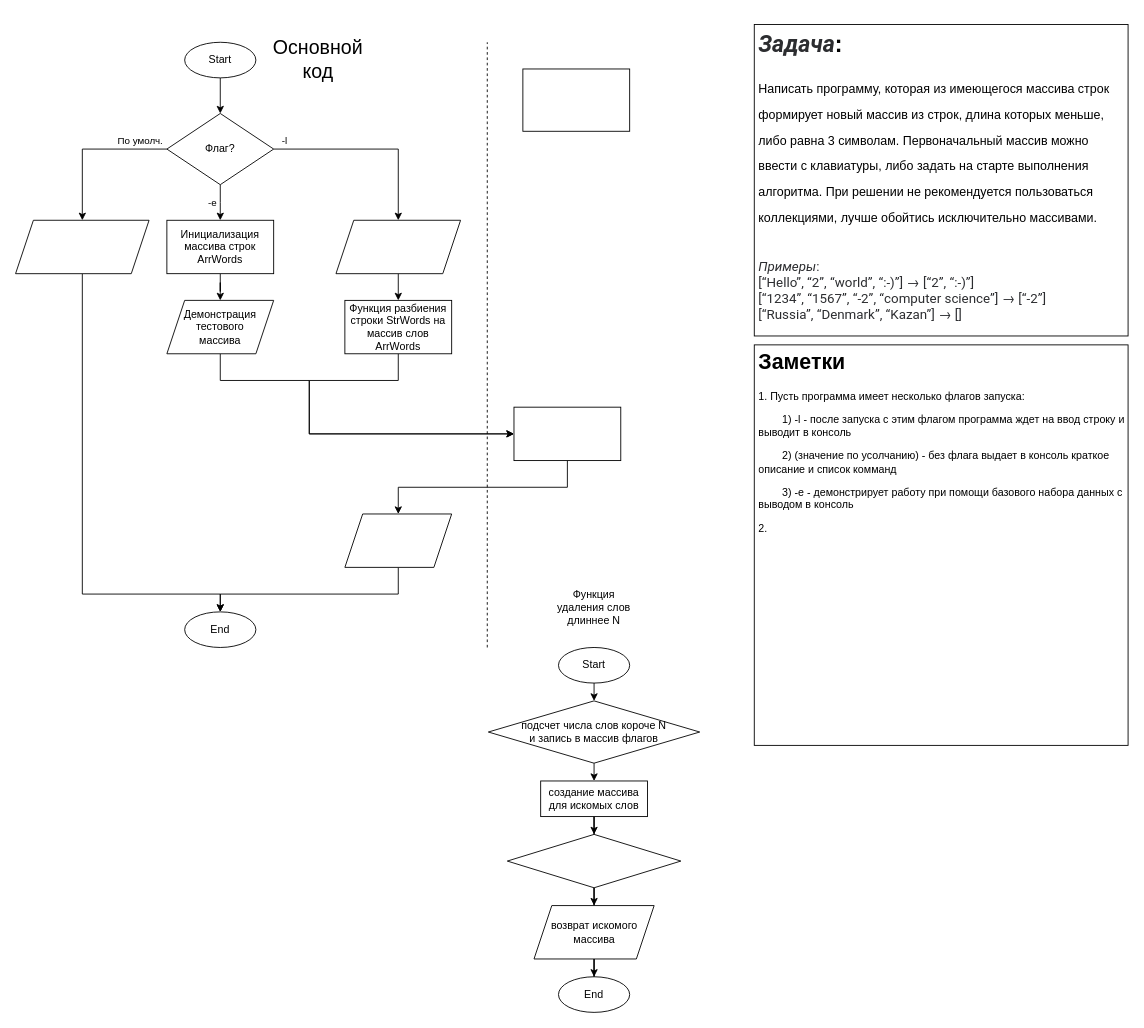
Some shapes in this 1144 by 1028 pixel diagram are drawn without their labels. The shapes that lost their labels are listed below. From the top down, each one's centre as x and y in pixels, then its label:
[576,99]: delimiterChars = { ' ', ',', '\t' }
[82,246]: Вывод версии и допустимых способов ввода
[398,246]: Получение строки StrWords
[567,433]: Удаление слов длиннее 3-х символов
[398,540]: Вывод полученного результата
[593,860]: Запись в конечный массив искомых слов
